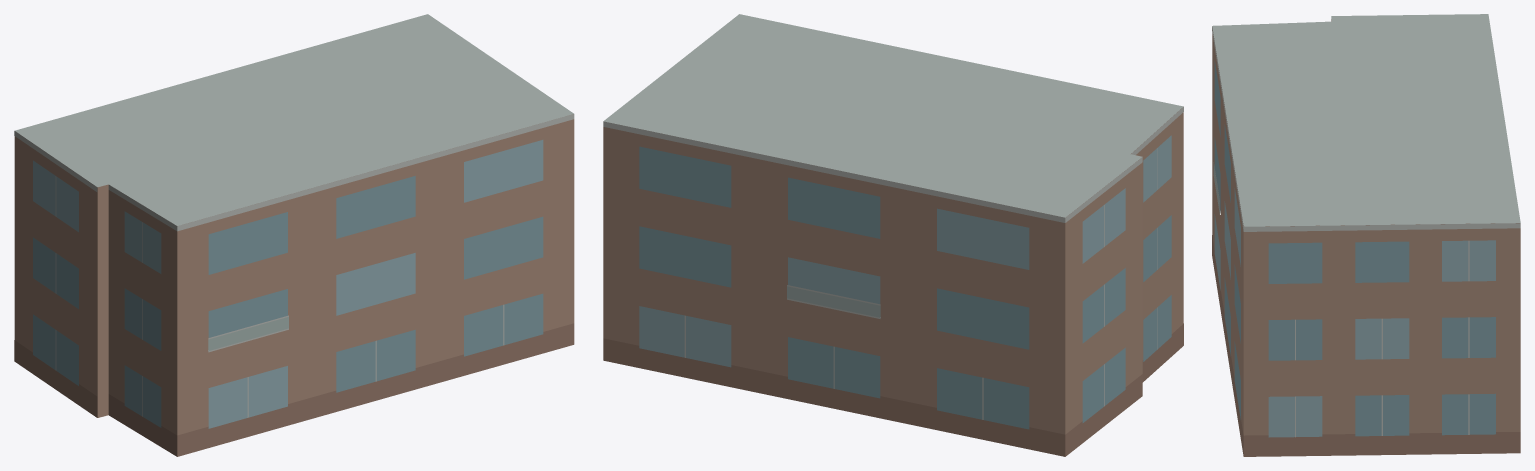
File: survey-upis-33035688.glb
3 renders of one model, left to right at view 1: azimuth 30°, elevation 25°; view 2: azimuth 150°, elevation 25°; view 3: azimuth 270°, elevation 25°, orthographic. The views are drawn at different scales.
Visible parts, largest first — view 1: survey-upis-33035688.tmp; view 2: survey-upis-33035688.tmp; view 3: survey-upis-33035688.tmp.
Boxes of the visible parts, x1,y1,x2,y2 form: survey-upis-33035688.tmp: (14, 14, 574, 456); survey-upis-33035688.tmp: (603, 14, 1183, 456); survey-upis-33035688.tmp: (1212, 14, 1520, 456).
Size of the model in its own units: 21.22 by 10.7 by 13.01.
